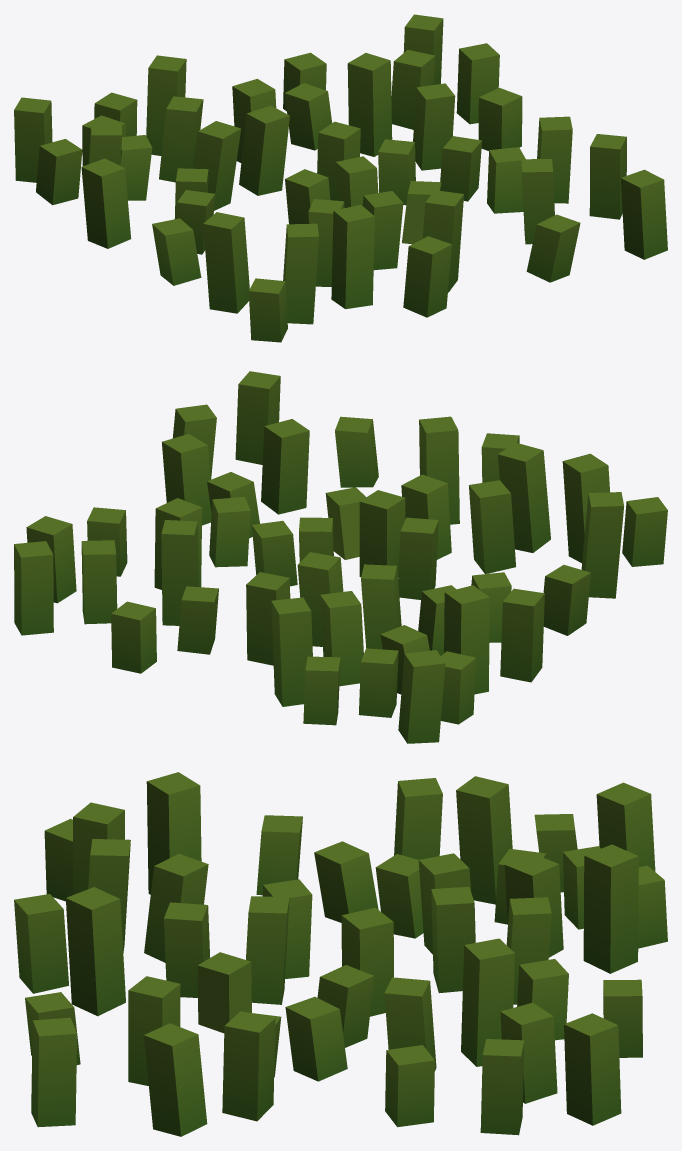
The model's file is Colza_Tile_Cut.glb.
3 views of the same model, one above another, from view 1: azimuth 30°, elevation 25°; view 2: azimuth 150°, elevation 25°; view 3: azimuth 270°, elevation 25° (orthographic). The views are drawn at different scales.
Parts seen in each view (by area): view 1: Colza_CUT; view 2: Colza_CUT; view 3: Colza_CUT.
Part boxes in pixels (<box>): Colza_CUT: <box>14,14,667,342</box>; Colza_CUT: <box>14,371,667,743</box>; Colza_CUT: <box>14,772,667,1136</box>.
Bounding box in the file's own units: 1.06 × 0.2027 × 1.09.
